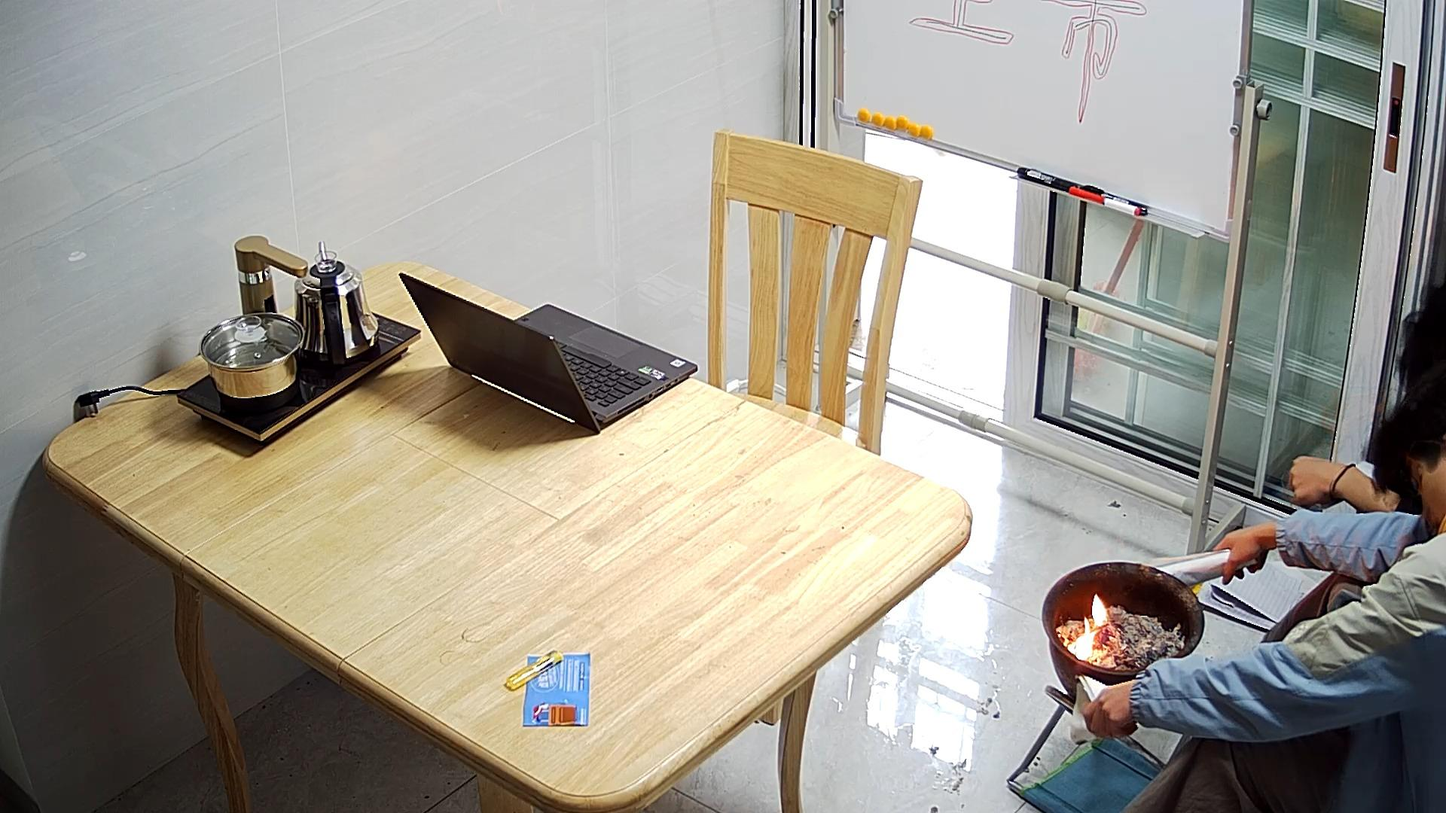fire: (1066, 597, 1107, 660)
